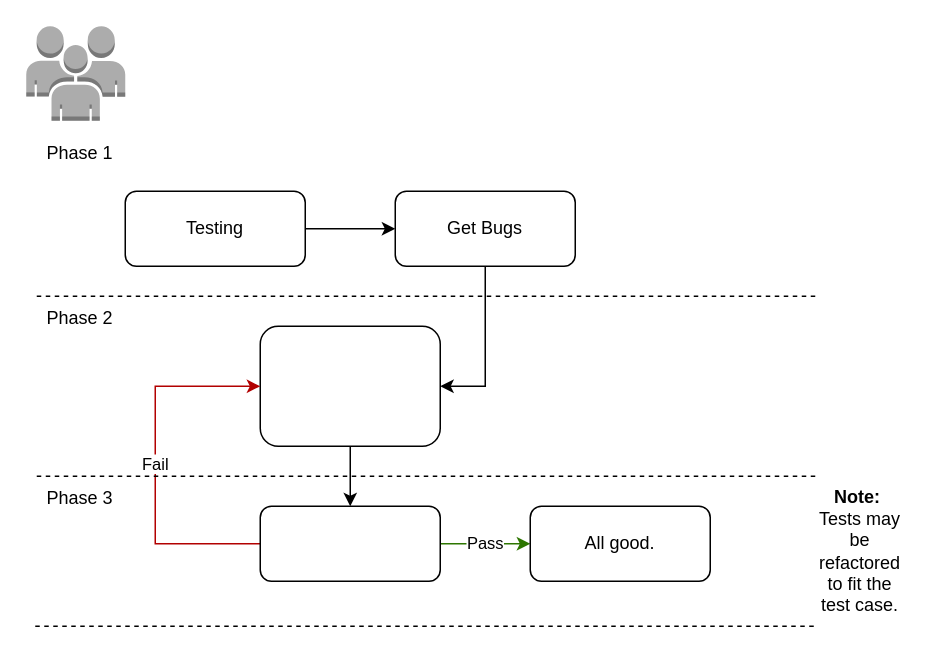
The diagram is 932 pixels wide and 654 high, and some of its shapes have lost their labels. The shapes that lost their labels are listed below. From the top down, each one's centre as x and y in pixels, then its label:
At point (349, 385): "Bugs Fixed".
At point (349, 543): "Test again".
